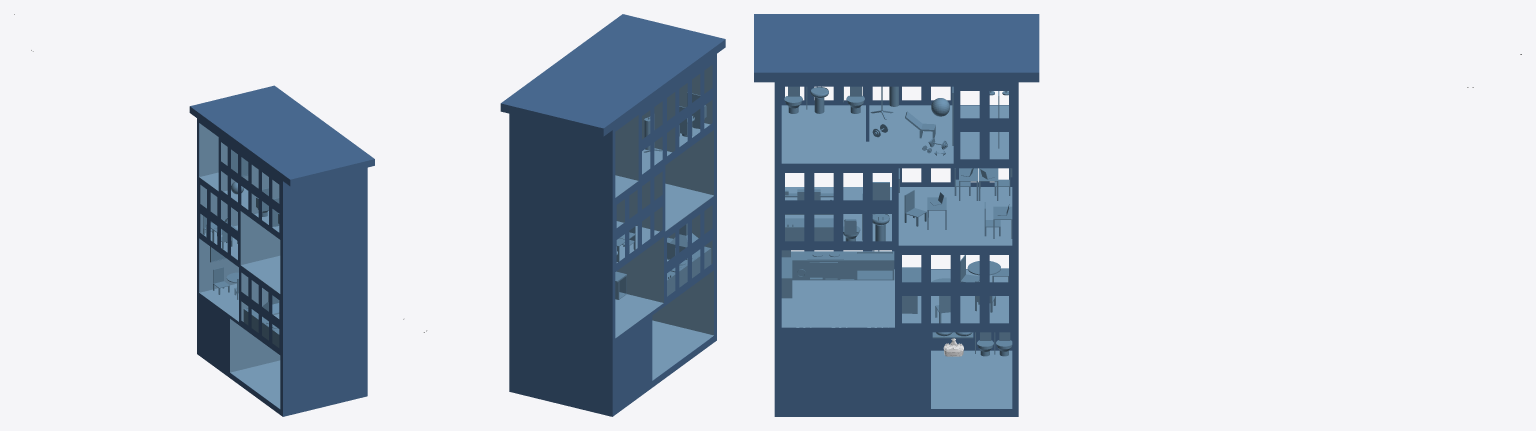
Rendered from sanicubic-2-vx.glb.
3 views of the same model, side by side, from view 1: azimuth 30°, elevation 25°; view 2: azimuth 150°, elevation 25°; view 3: azimuth 270°, elevation 25° (orthographic). The views are drawn at different scales.
Parts seen in each view (by area): view 1: Product7; view 2: Product7; view 3: Product7.
Part boxes in pixels (x1,y1,x2,y2): Product7: [14, 14, 374, 416]; Product7: [403, 14, 725, 416]; Product7: [754, 14, 1521, 416].
Size of the model in its own units: 13.87 by 35.44 by 71.64.
2 materials, 2 textured.
